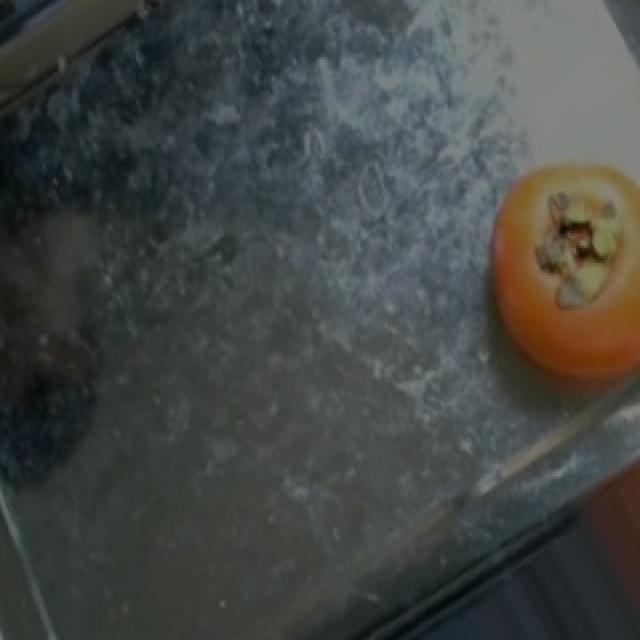Fruit: (456, 134, 640, 422)
